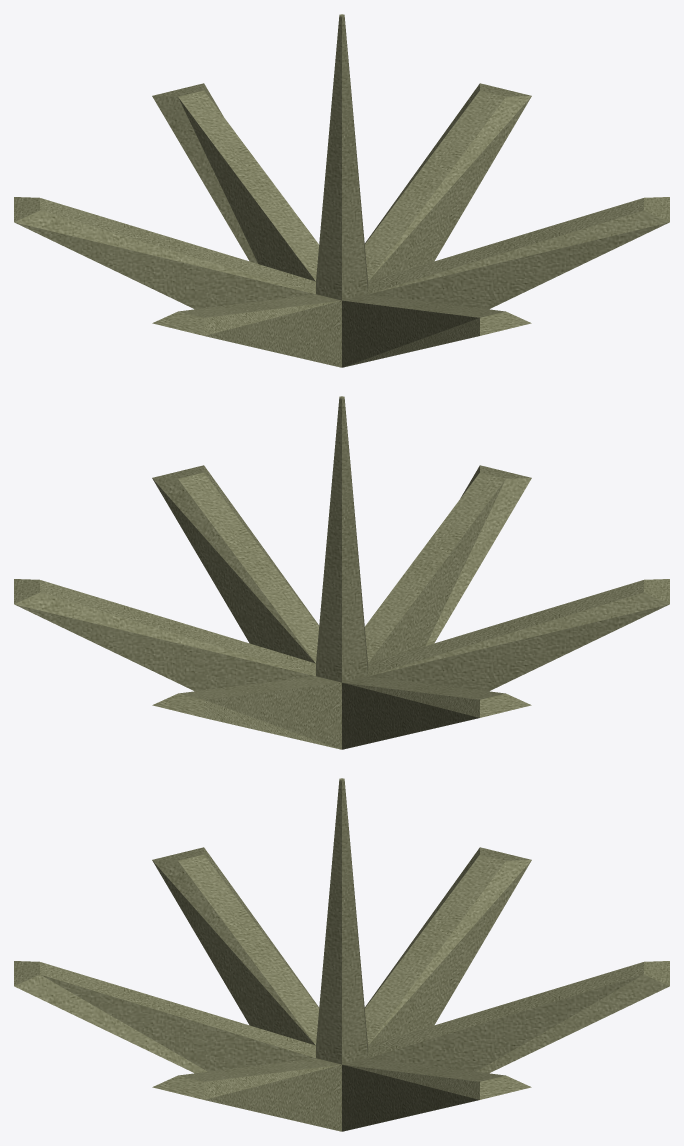
The model's file is 48070d36-5f13-4101-b935-fc9ddc2e062e.dae.
3 views of the same model, one above another, from view 1: azimuth 30°, elevation 25°; view 2: azimuth 150°, elevation 25°; view 3: azimuth 270°, elevation 25° (orthographic).
Visible parts, largest first — view 1: SketchUp; view 2: SketchUp; view 3: SketchUp.
Boxes of the visible parts, box(x1,y1,x2,y2) form: SketchUp: box(14, 14, 669, 367); SketchUp: box(14, 396, 669, 749); SketchUp: box(14, 778, 669, 1131).
Size of the model in its own units: 78.32 by 85.9 by 47.24.
Materials: 1 (1 with a texture image).
